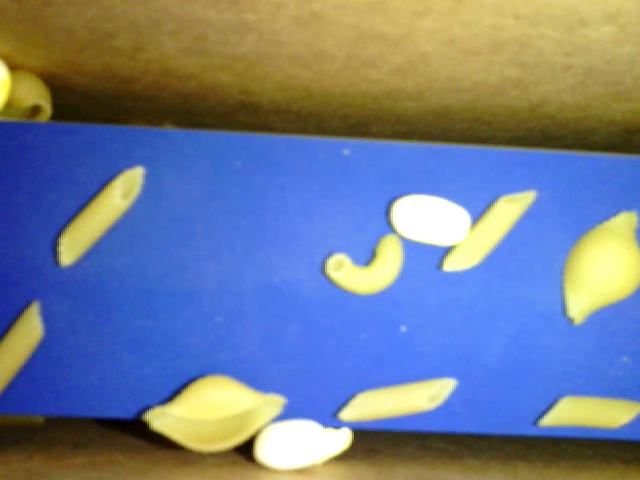elbow: (323, 232, 405, 296)
penne: (55, 165, 145, 269), (440, 187, 539, 275), (338, 375, 459, 422), (3, 301, 45, 394), (538, 394, 639, 429)
shell: (133, 367, 288, 452), (565, 209, 638, 330), (3, 68, 55, 126)
